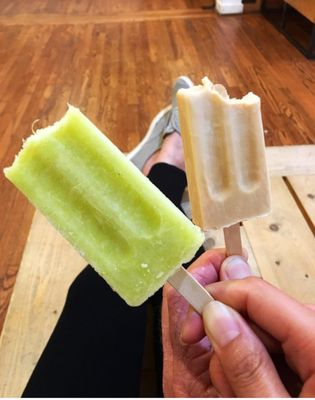pasta: (3, 102, 210, 305)
